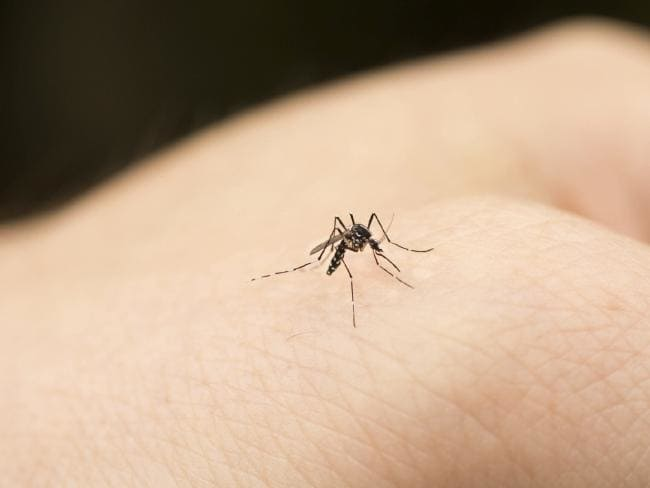dengue_mosquito: (249, 212, 431, 327)
